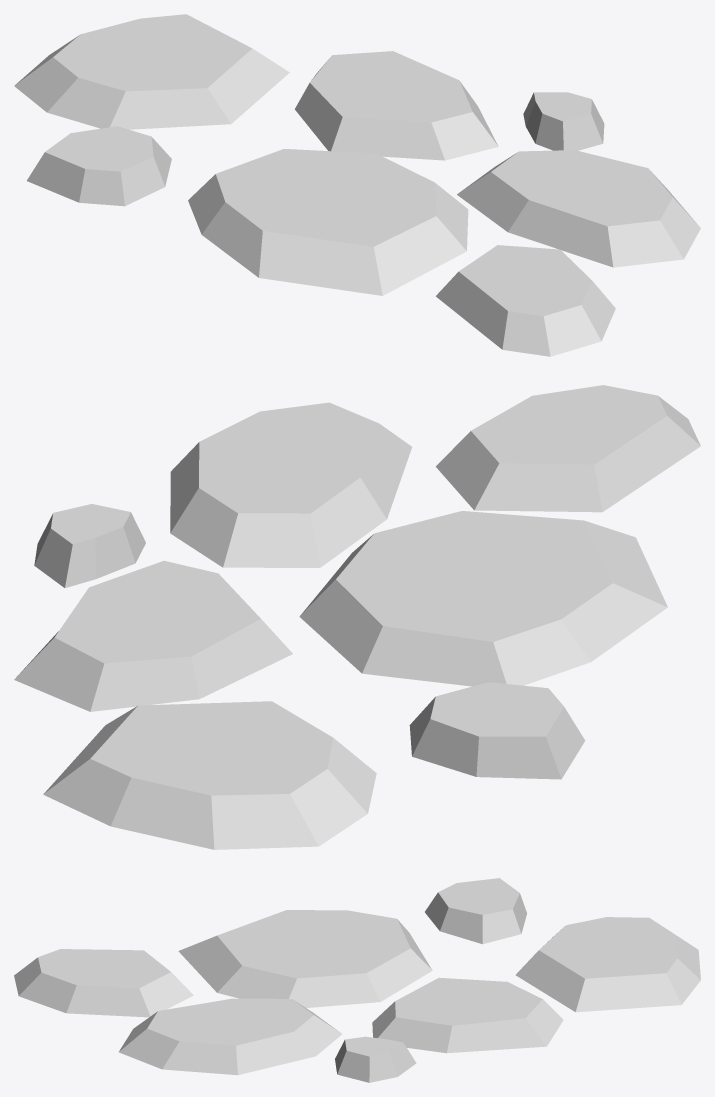
File: stone_002.fbx
3 views of the same model, one above another, from view 1: azimuth 30°, elevation 25°; view 2: azimuth 150°, elevation 25°; view 3: azimuth 270°, elevation 25° (orthographic). The views are drawn at different scales.
Visible parts, largest first — view 1: stone.002; view 2: stone.002; view 3: stone.002.
Boxes of the visible parts, x1,y1,x2,y2 form: stone.002: (14,14,700,356); stone.002: (14,385,700,849); stone.002: (14,878,700,1082).
Size of the model in its own units: 338 by 17.94 by 519.
Materials: 1 (1 with a texture image).
